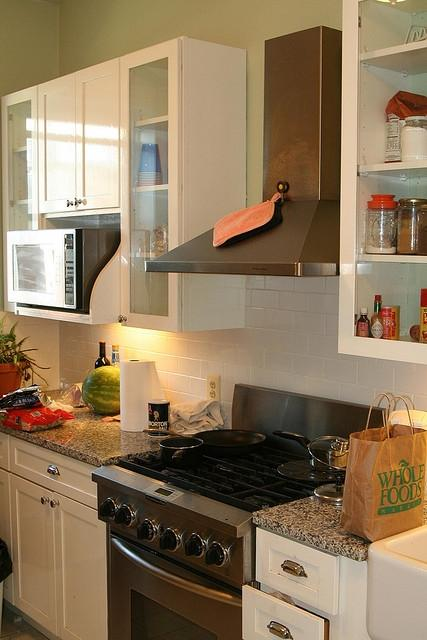watermelon: (82, 366, 121, 414)
